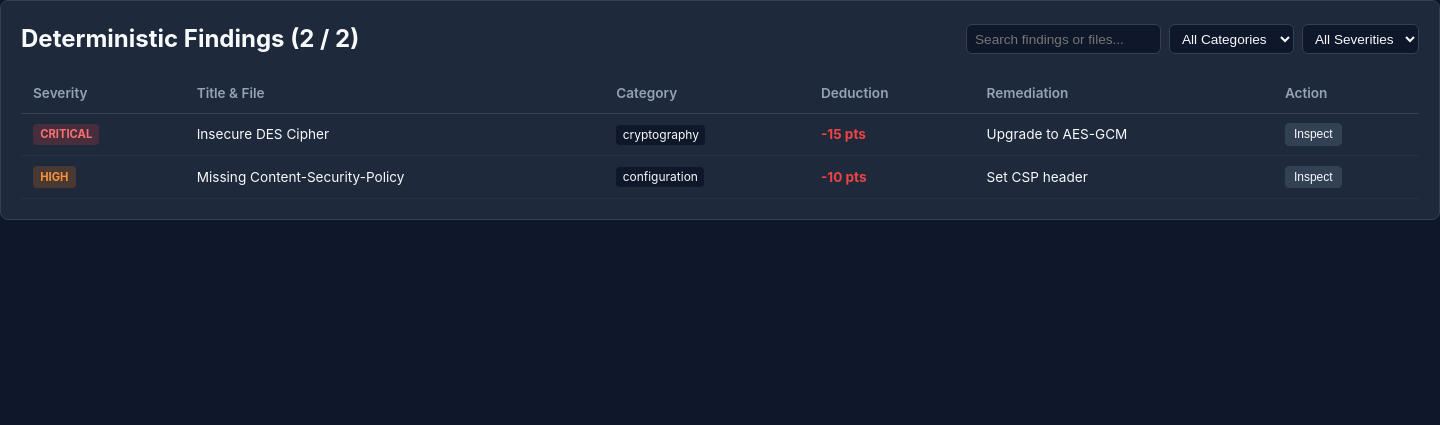
FindingsTable Component › allows expanding details to view evidence
The width and height of the screenshot is (1440, 425).
Click the button "Inspect" in the row of "CRITICAL" at [1313, 134], box [1285,123,1342,146]
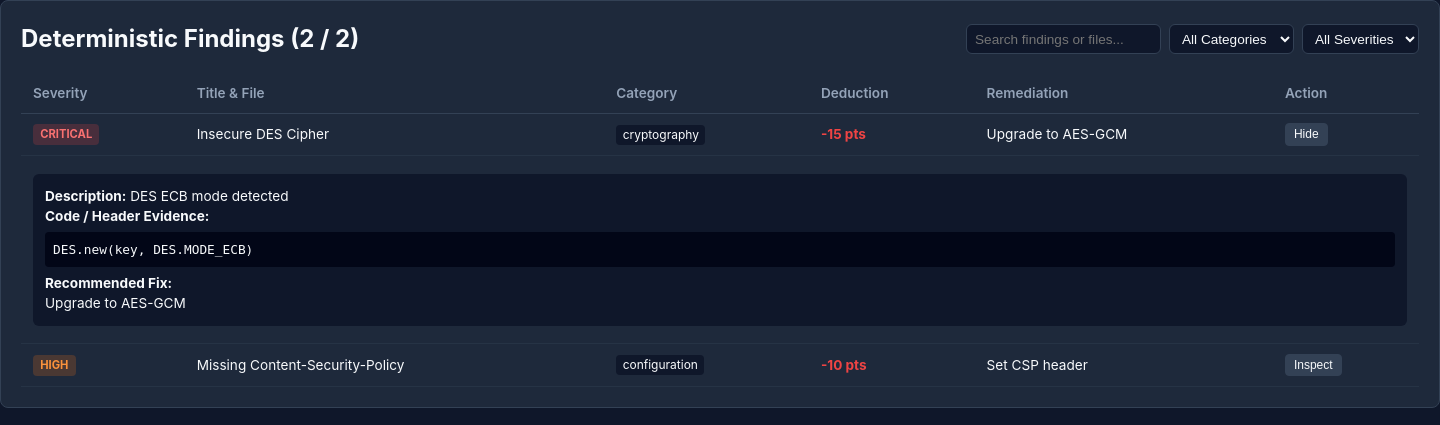
Check: the text "Description: DES ECB mode detected" is shown, box [45,188,288,204]
Check: the text "DES.new(key, DES.MODE_ECB)" is shown, box [53,242,253,257]
